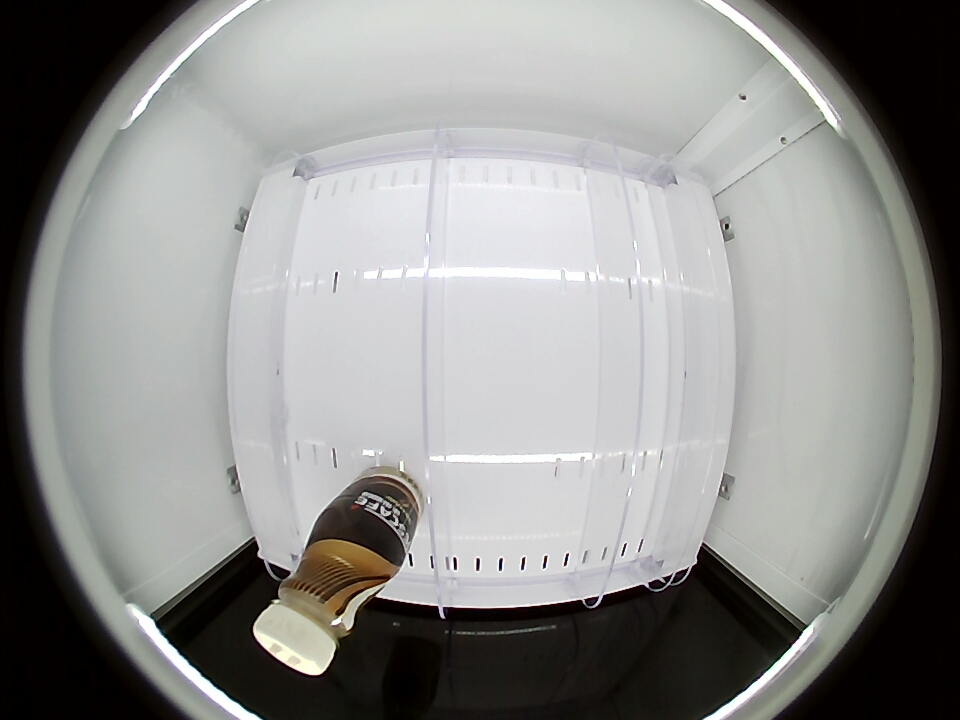kafei: (253, 522, 404, 676)
